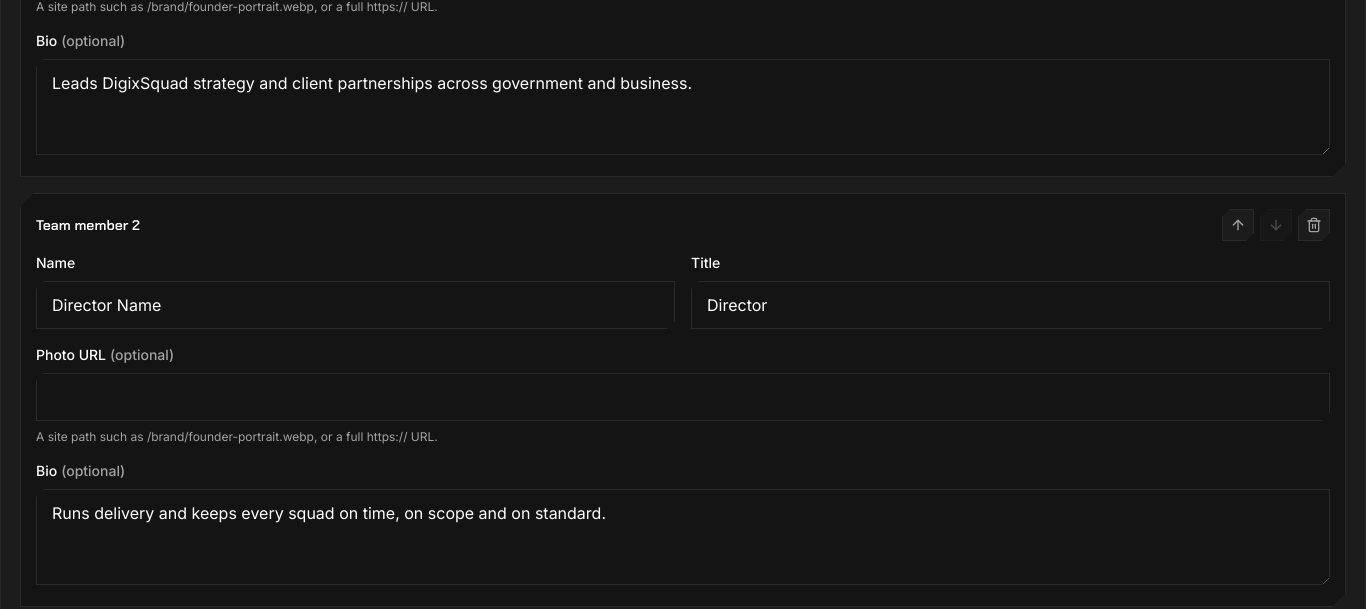
it: homepage editor › adds, reorders and validates list items
The image size is (1366, 609).
Later steps or results of the test are not shown.
(page scrolled)
Click the button named "Move Team member 2 up": coordinates (1238, 225) [1222,209,1254,241]
(page scrolled)
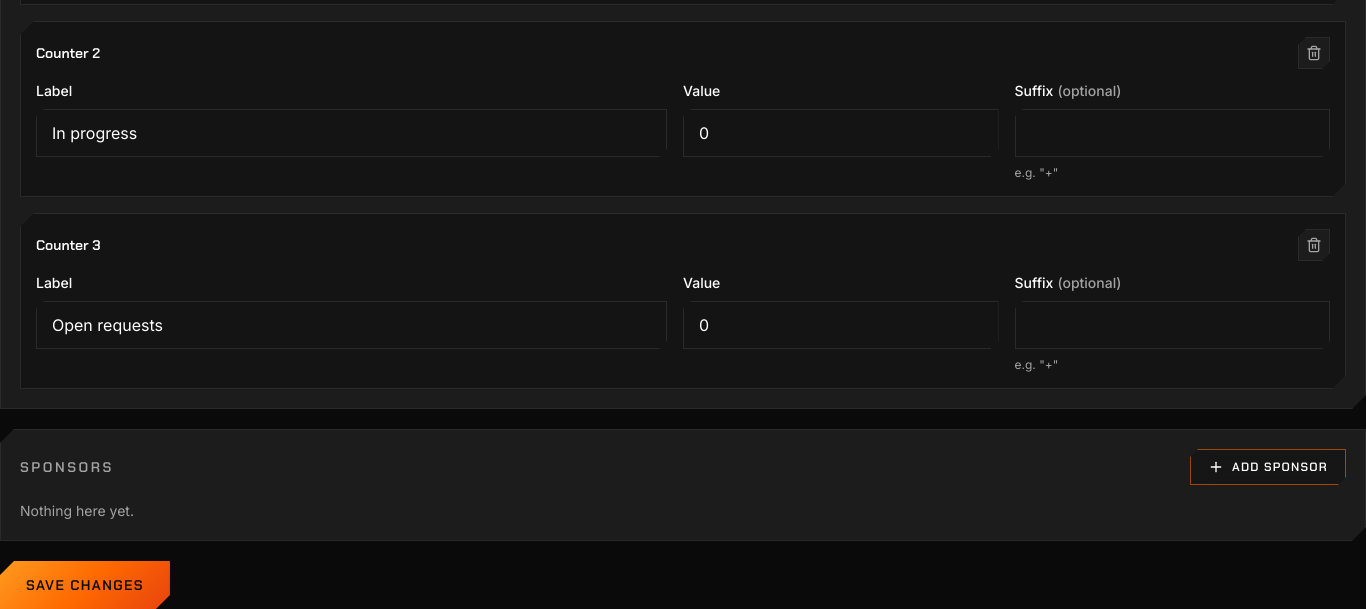
Click the button "Add sponsor": coordinates (1268, 467) [1190,449,1346,485]
(page scrolled)
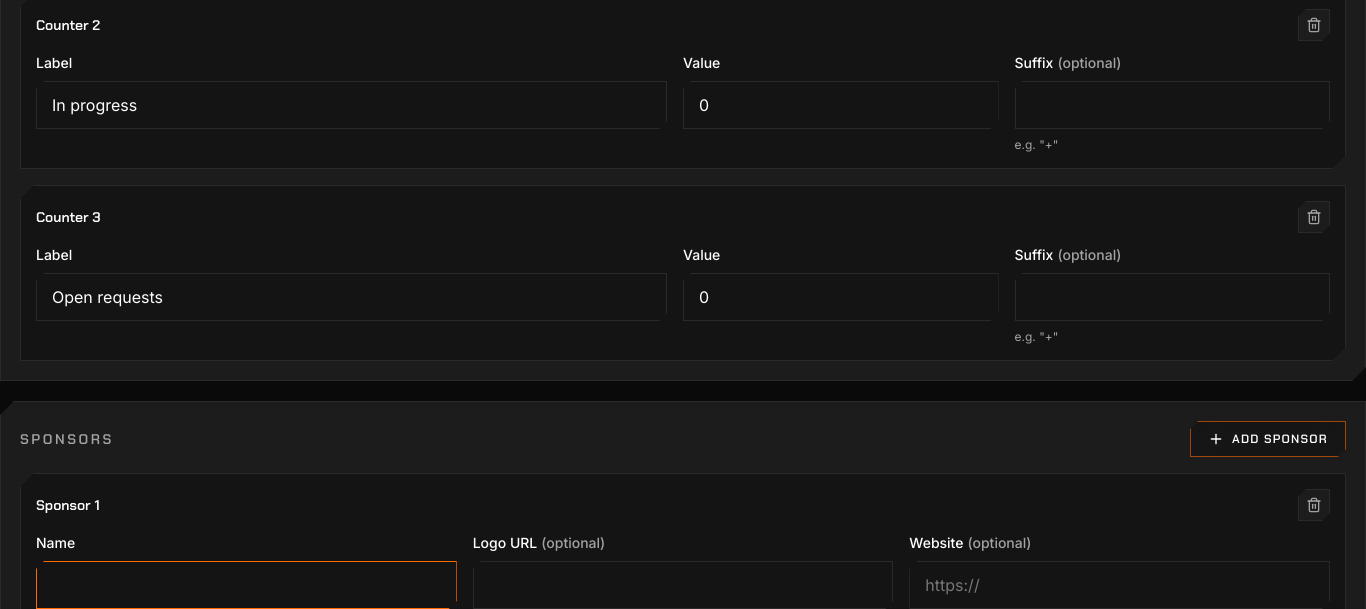
In the field labelled "Website(optional)": coordinates (1120, 585) [909,561,1330,608], type "nope"
(page scrolled)
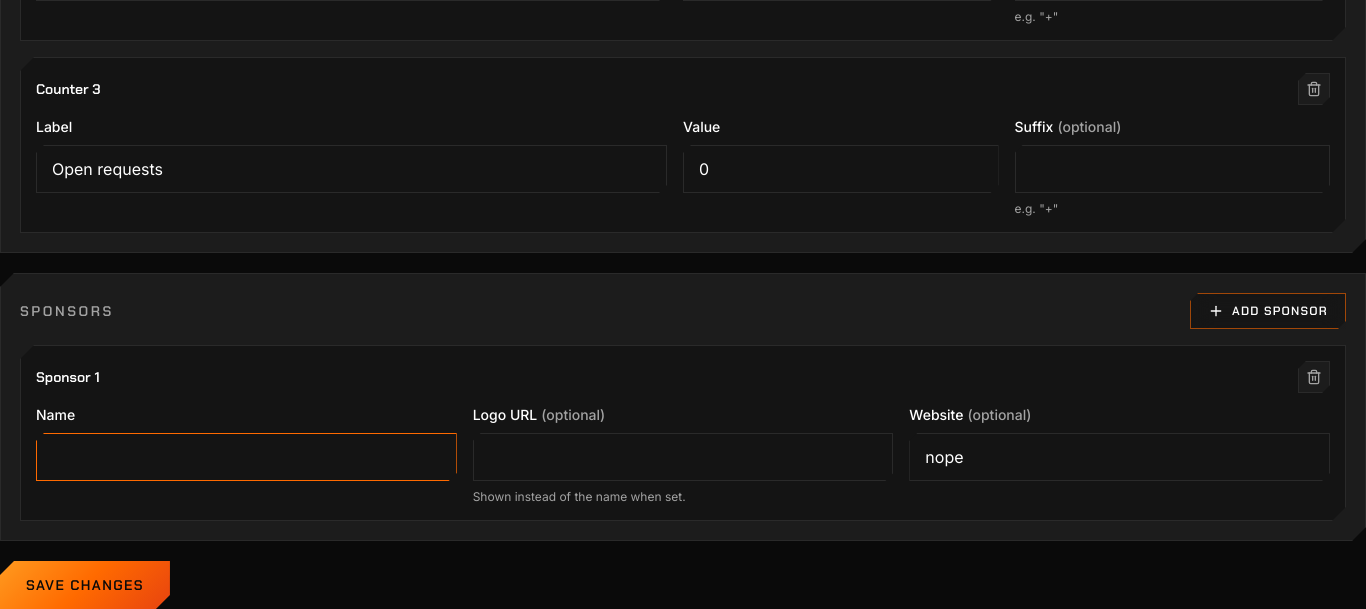
Click the button "Save changes": coordinates (85, 585) [0,561,170,608]
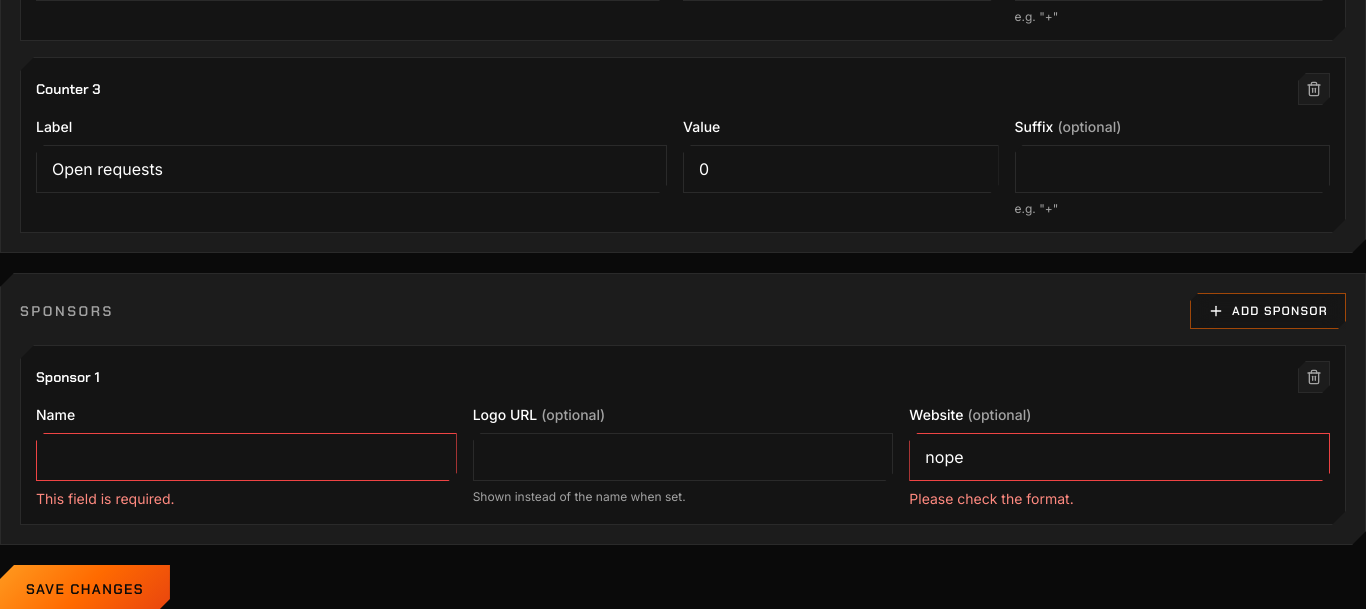
Now the number of messages is 2, box [36,490,175,507]; [909,490,1074,507]
